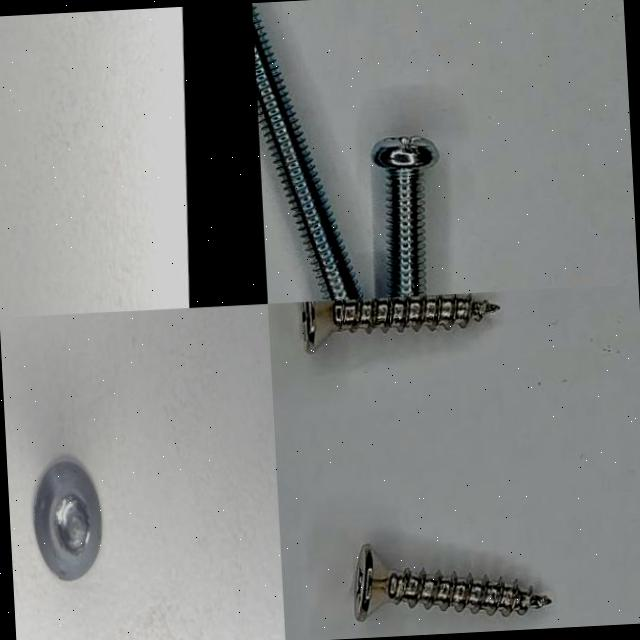Screw: (252, 3, 363, 301), (354, 545, 552, 623), (302, 294, 501, 353), (372, 139, 440, 298), (35, 461, 102, 580)
